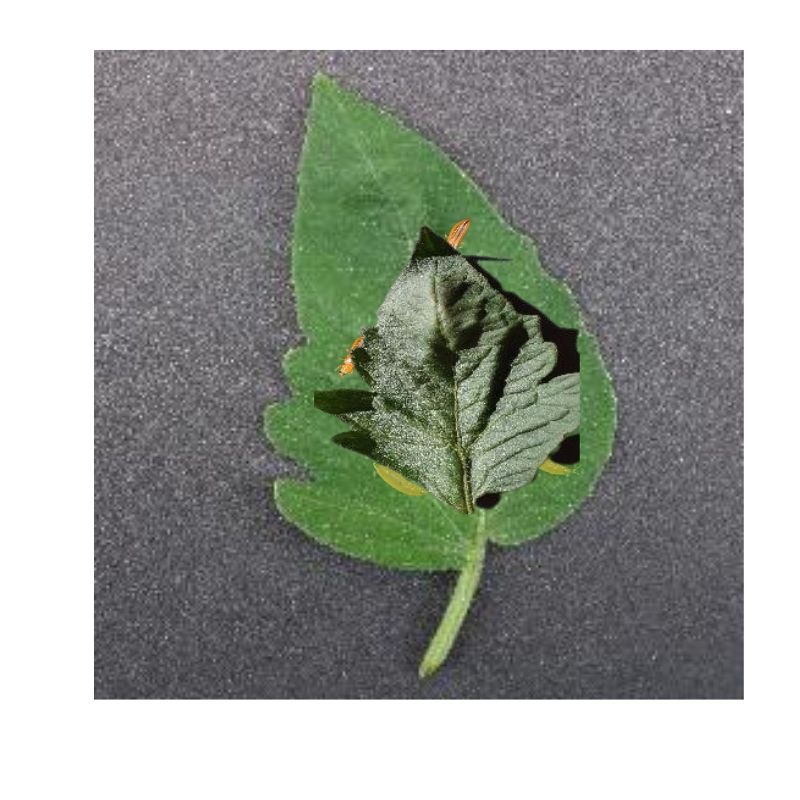thrips: (372, 460, 428, 500), (332, 332, 369, 378), (539, 457, 582, 479), (446, 216, 472, 250)
